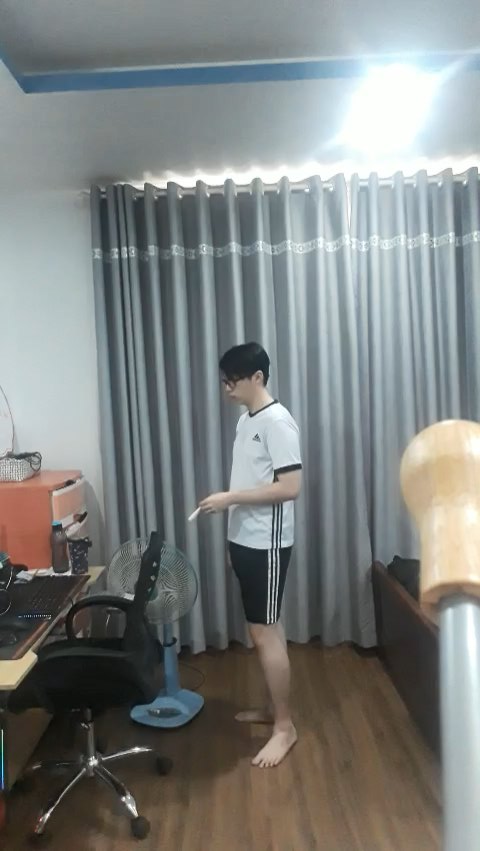cigarette: (189, 504, 200, 523)
person: (195, 338, 324, 781)
